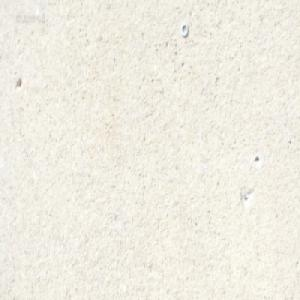Washer: (181, 22, 189, 37)
